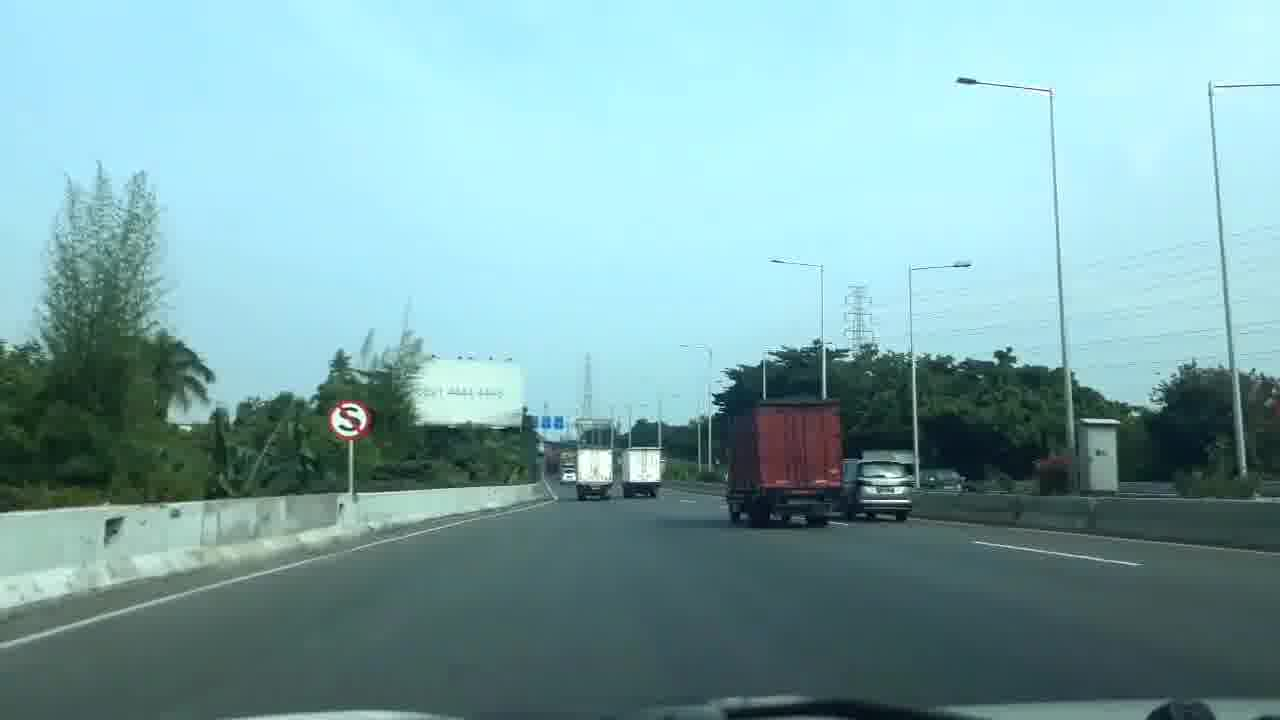plate_positive: (877, 486, 895, 493)
